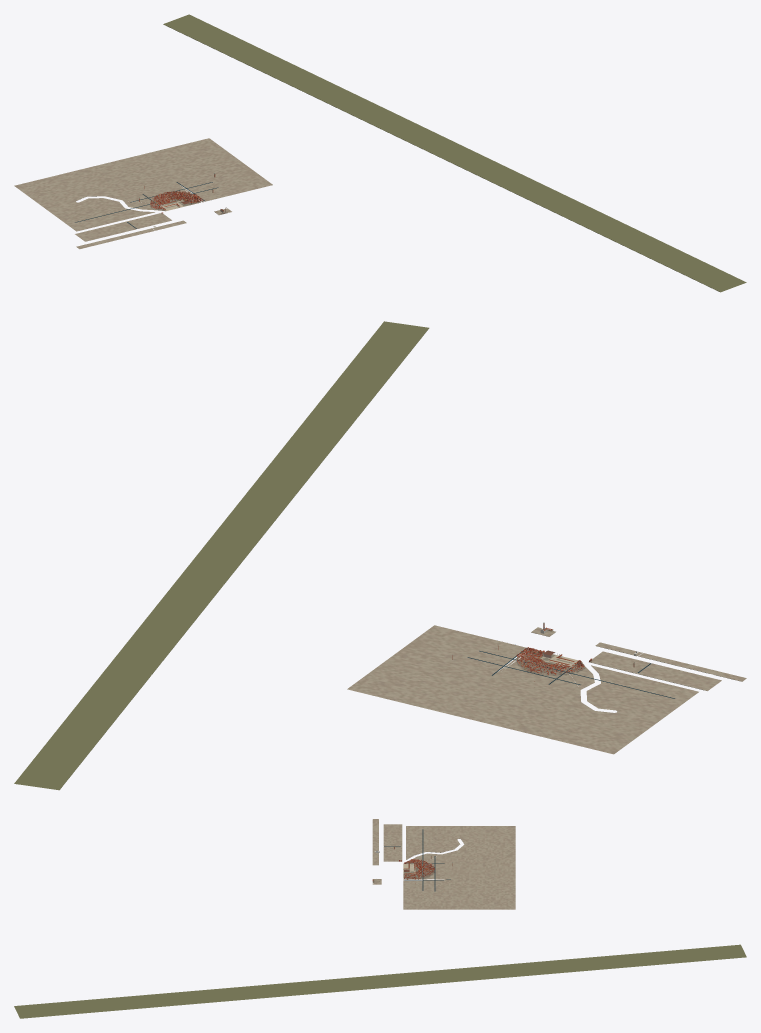
Rendered from venice.glb.
3 renders of one model, top to bottom at view 1: azimuth 30°, elevation 25°; view 2: azimuth 150°, elevation 25°; view 3: azimuth 270°, elevation 25°, orthographic. The views are drawn at different scales.
Parts seen in each view (by area): view 1: venice_city, venice_ground_far, venice_ground_core; view 2: venice_city, venice_ground_far, venice_ground_core; view 3: venice_city, venice_ground_far, venice_ground_core.
Boxes of the visible parts, x1,y1,x2,y2 form: venice_city: (75,14,746,292); venice_ground_far: (14,138,272,249); venice_ground_core: (125,183,211,220); venice_city: (14,321,739,790); venice_ground_far: (347,625,746,754); venice_ground_core: (486,645,613,690); venice_city: (14,829,746,1018); venice_ground_far: (372,819,515,909); venice_ground_core: (392,856,444,883).
Bounding box in the file's own units: 5852 × 74 × 9075.
Materials: 2 (2 with a texture image).
